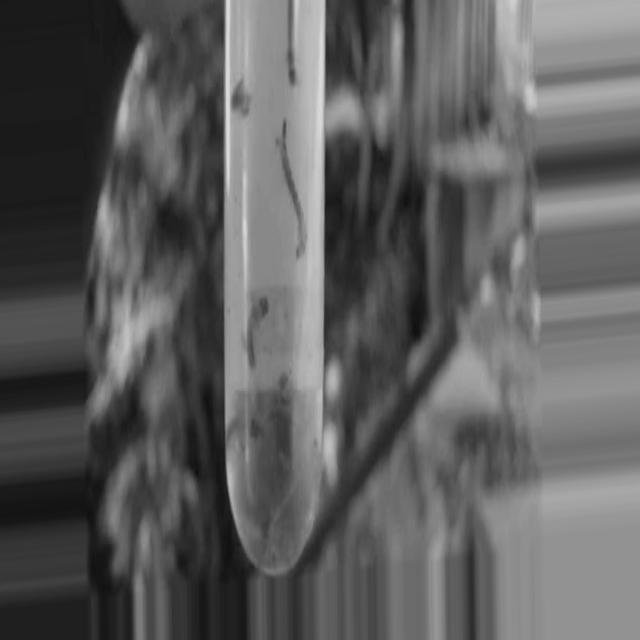larvas: (276, 137, 306, 254), (262, 468, 297, 543), (246, 295, 269, 360), (233, 409, 264, 451), (287, 1, 297, 84)
